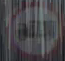Heavy Vehicles: (7, 3, 59, 46)
